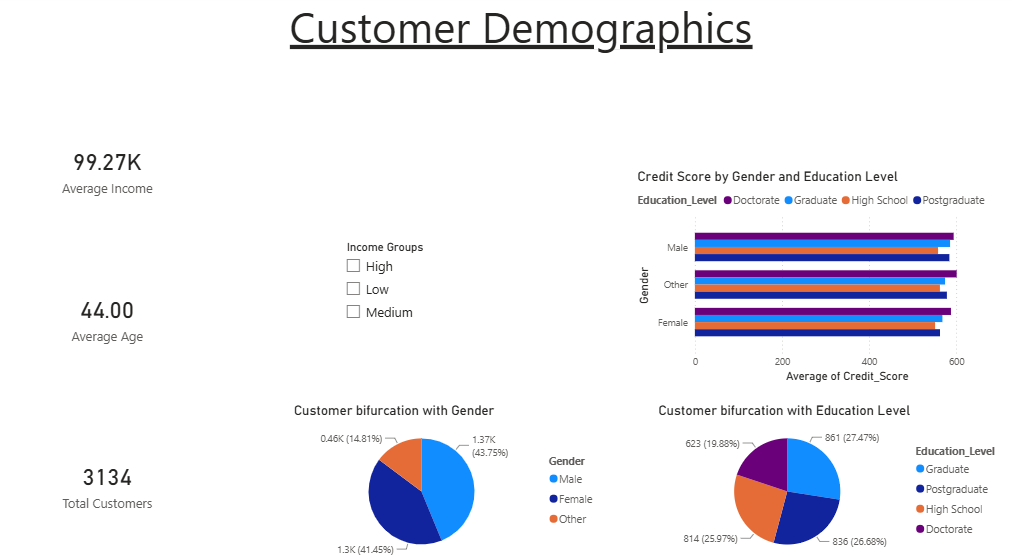

This screenshot's page, from the dashboard's own definition file:
{"tool":"powerbi","page":{"name":"Customer Demographics","canvas":[1280,720],"ordinal":0},"visuals":[{"type":"card","fields":{"Values":["Analysis.Total Customers"]},"box":[0,549.9,279.7,136.1],"z":0},{"type":"card","fields":{"Values":["Analysis.Average Age"]},"box":[0,332.6,279.7,149.3],"z":1000},{"type":"card","fields":{"Values":["Analysis.Average Income"]},"box":[0,128.5,279.7,185.2],"z":2000},{"type":"slicer","fields":{"Values":["Customer_Details.Income Buckets"]},"box":[429,306.1,279.7,143.6],"z":3000},{"type":"pieChart","title":"Customer bifurcation with Gender","fields":{"Category":["Customer_Details.Gender"],"Y":["CountNonNull(Customer_Details.Customer_ID)"]},"box":[370.4,515.9,396.9,204.1],"z":4000},{"type":"pieChart","title":"Customer bifurcation with Education Level","fields":{"Category":["Customer_Details.Education_Level"],"Y":["CountNonNull(Customer_Details.Customer_ID)"]},"box":[829.6,515.9,449.8,204.1],"z":5000},{"type":"clusteredBarChart","title":"Credit Score by Gender and Education Level","fields":{"Category":["Customer_Details.Gender"],"Series":["Customer_Details.Education_Level"],"Y":["Avg(Customer_Details.Credit_Score)"]},"box":[803.2,221.1,476.2,274],"z":6000},{"type":"textbox","box":[364.7,0,886.3,185.2],"z":7000}]}

Visuals, with their boxes in screenshot pixels (x1, y1, x2, y2), scaled from the page's 1280x720 canvas onto the 1011x559 screenshot:
card - Analysis.Total Customers: x1=0, y1=427, x2=221, y2=533
card - Analysis.Average Age: x1=0, y1=258, x2=221, y2=374
card - Analysis.Average Income: x1=0, y1=100, x2=221, y2=244
slicer - Customer_Details.Income Buckets: x1=339, y1=238, x2=560, y2=349
"Customer bifurcation with Gender" pieChart: x1=293, y1=401, x2=606, y2=558
"Customer bifurcation with Education Level" pieChart: x1=655, y1=401, x2=1010, y2=558
"Credit Score by Gender and Education Level" clusteredBarChart: x1=634, y1=172, x2=1010, y2=384
textbox: x1=288, y1=0, x2=988, y2=144
